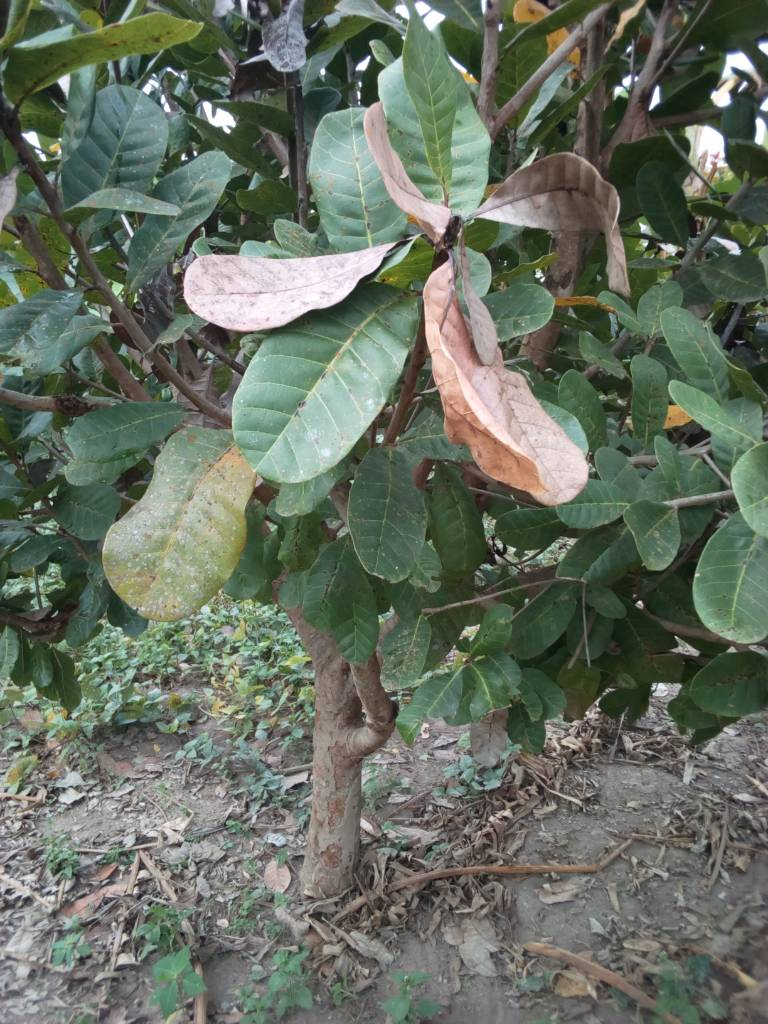Anthracnose: (104, 416, 272, 619), (180, 238, 405, 335)
